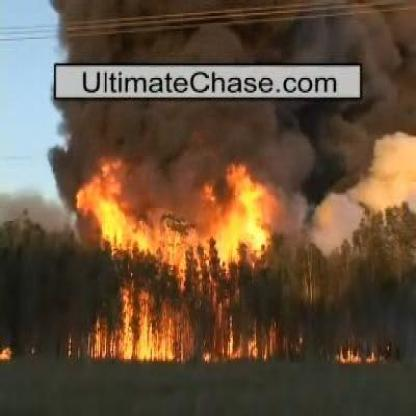-: (57, 4, 370, 64), (267, 104, 385, 228), (50, 100, 214, 173)
foggia-v2-map80-epoch100 - v1 4323: (123, 319, 174, 359)
